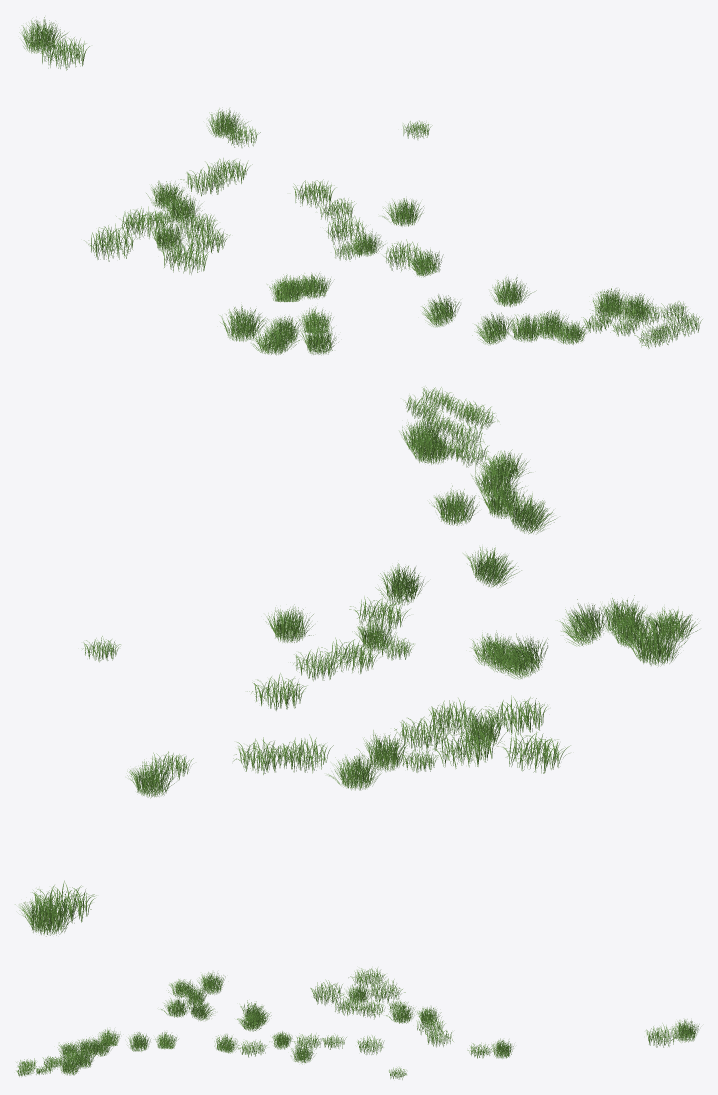
File: grass_scatter.glb
The picture shows the model from 3 angles, top to bottom: view 1: azimuth 30°, elevation 25°; view 2: azimuth 150°, elevation 25°; view 3: azimuth 270°, elevation 25°; orthographic projection. The views are drawn at different scales.
Visible parts, largest first — view 1: Grass C.12, Grass B.2; view 2: Grass C.12, Grass B.2; view 3: Grass C.12, Grass B.2.
Boxes of the visible parts, <box> form: Grass C.12: <box>19,17,653,355</box>; Grass B.2: <box>40,37,702,348</box>; Grass C.12: <box>15,417,699,936</box>; Grass B.2: <box>25,387,570,923</box>; Grass C.12: <box>57,972,699,1075</box>; Grass B.2: <box>16,968,677,1079</box>.
Size of the model in its own units: 0.5937 by 0.093 by 1.4.
1 material, 1 textured.
